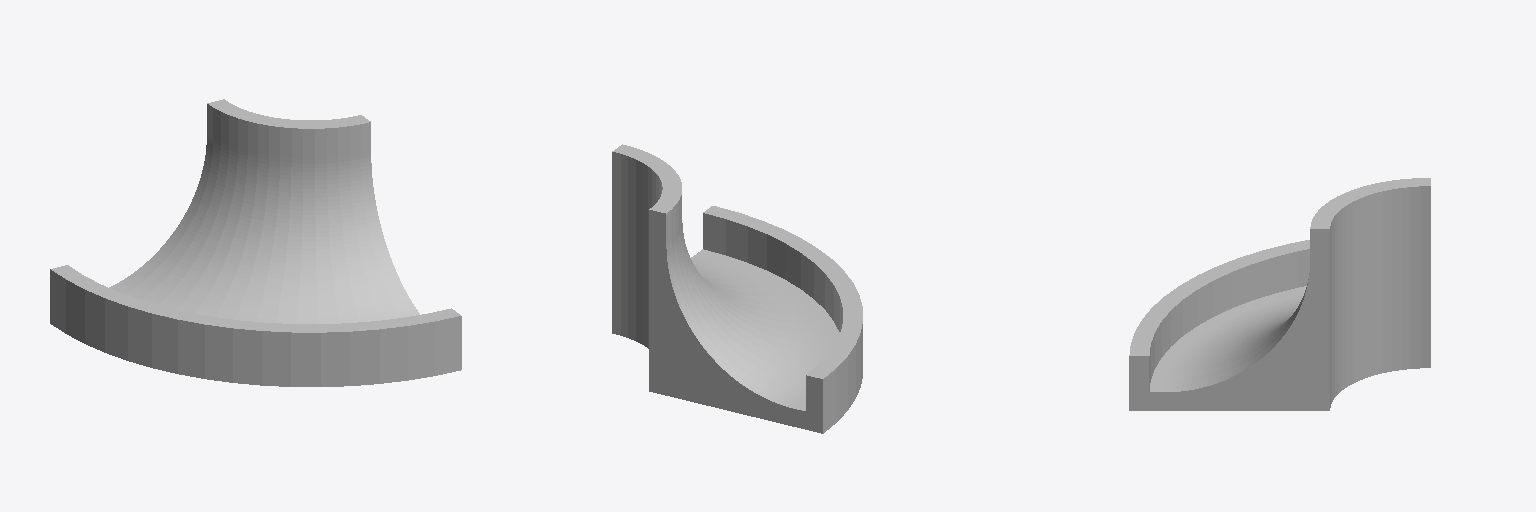
Rendered from BankedCornerMedium2.obj.
3 renders of one model, left to right at view 1: azimuth 30°, elevation 25°; view 2: azimuth 150°, elevation 25°; view 3: azimuth 270°, elevation 25°, orthographic.
Parts seen in each view (by area): view 1: BankedCornerMedium2; view 2: BankedCornerMedium2; view 3: BankedCornerMedium2.
Part boxes in pixels (x1,y1,x2,y2): BankedCornerMedium2: (50, 99, 461, 386); BankedCornerMedium2: (612, 144, 862, 433); BankedCornerMedium2: (1129, 178, 1430, 410).
Bounding box in the file's own units: 3 × 2 × 3.